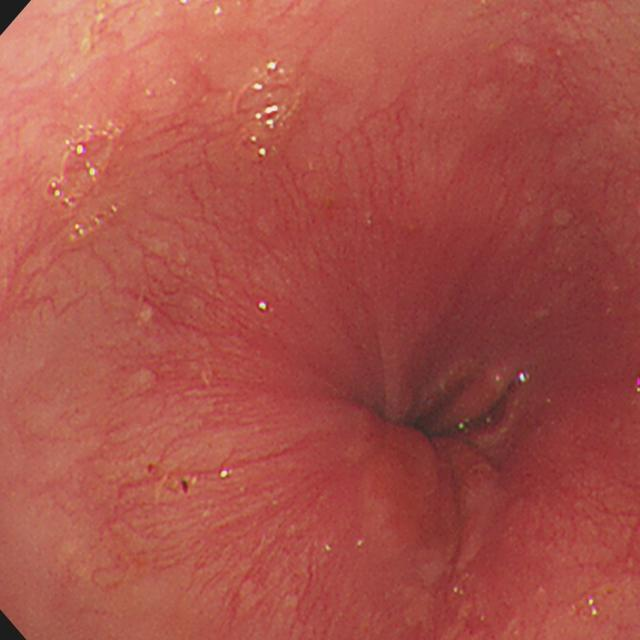I: (295, 248, 573, 565)
T: (47, 119, 126, 242), (232, 61, 303, 141)
U: (219, 469, 235, 483), (257, 300, 270, 312), (518, 372, 531, 384)
